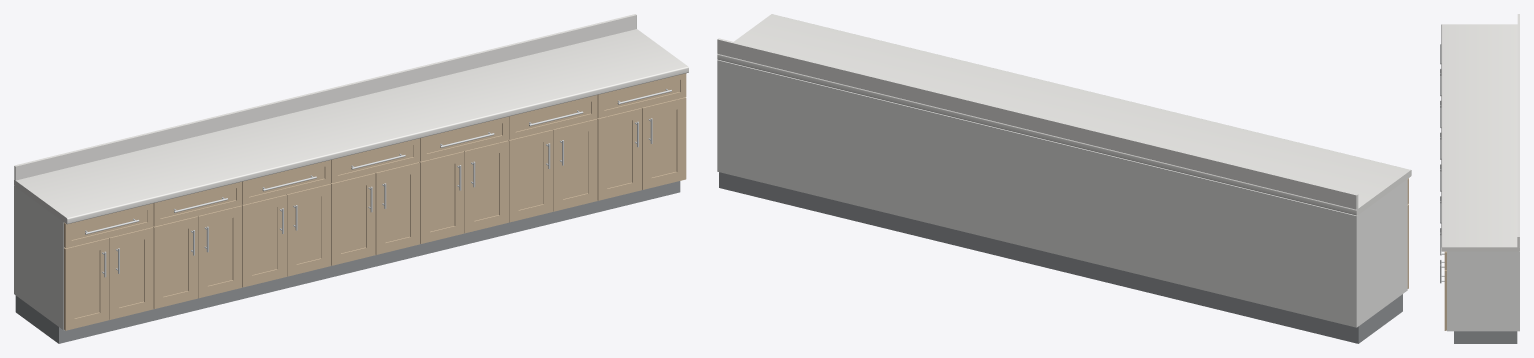
The picture shows the model from 3 angles, left to right: view 1: azimuth 30°, elevation 25°; view 2: azimuth 150°, elevation 25°; view 3: azimuth 270°, elevation 25°; orthographic projection. The views are drawn at different scales.
Parts seen in each view (by area): view 1: Tủ bếp dưới Dài=4200; Sâu=580; view 2: Tủ bếp dưới Dài=4200; Sâu=580; view 3: Tủ bếp dưới Dài=4200; Sâu=580.
Boxes of the visible parts, <box> form: Tủ bếp dưới Dài=4200; Sâu=580: <box>14,14,688,343</box>; Tủ bếp dưới Dài=4200; Sâu=580: <box>717,14,1411,343</box>; Tủ bếp dưới Dài=4200; Sâu=580: <box>1440,14,1519,343</box>.
Size of the model in its own units: 4.2 by 0.9401 by 0.635.
